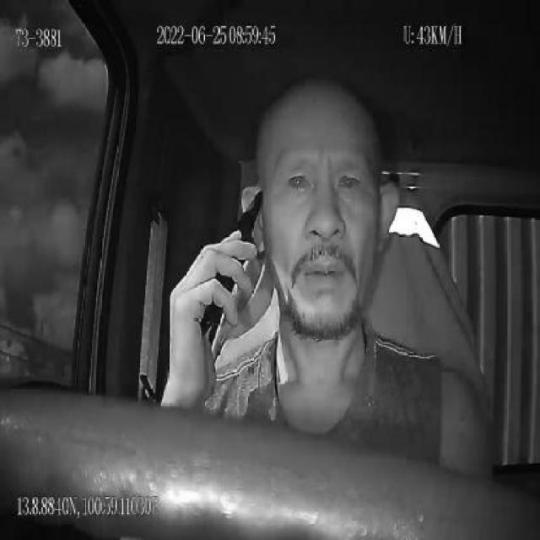phone: (201, 188, 264, 356)
